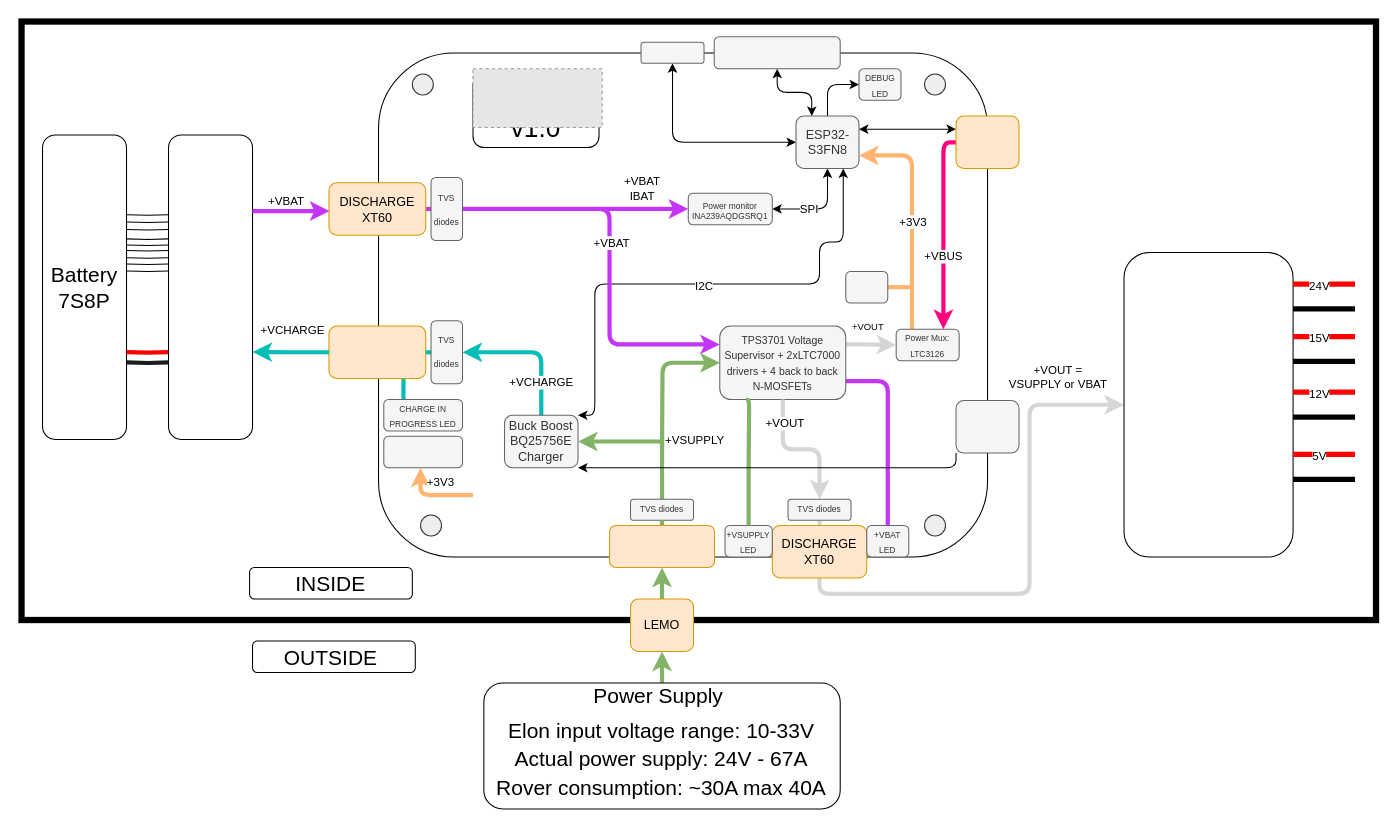
Some shapes in this 1396 by 833 pixel diagram are drawn without their labels. Grey dashed boxes stand in for pictures. The shapes that lost their labels are listed below. From the top down, each one's centre as x and y in pixels, then its label:
[672,52]: JTAG connector
[776,52]: Remaining GPIOs
[987,142]: USB-C
[210,286]: BMS
[866,286]: PWR ON +3V3 LED
[377,352]: CHARGE XT60
[1208,404]: Power Distribution Pollux III Geode
[987,426]: JST PH2 connector to enable charge
[423,451]: CHARGE FINISHED LED
[661,546]: SUPPLY INPUT XT60
